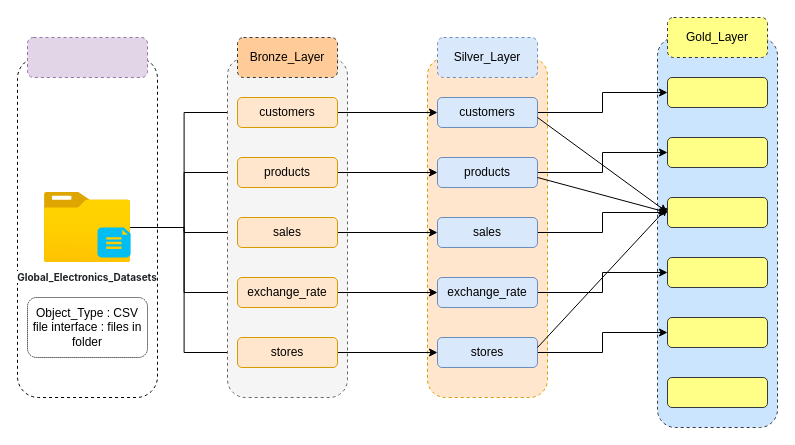
Image size: 795x445. Some labels were removed from this diagram. The centre of each missing label's shape, as x and y in pixels:
"dim_customers" goes at point (717, 92).
"dim_dates" goes at point (717, 392).
"dim_products" goes at point (717, 152).
"dim_stores" goes at point (717, 332).
"fact_excahnge_ rates" goes at point (717, 272).
"fact_sales" goes at point (717, 212).
"Source_File" goes at point (87, 57).
